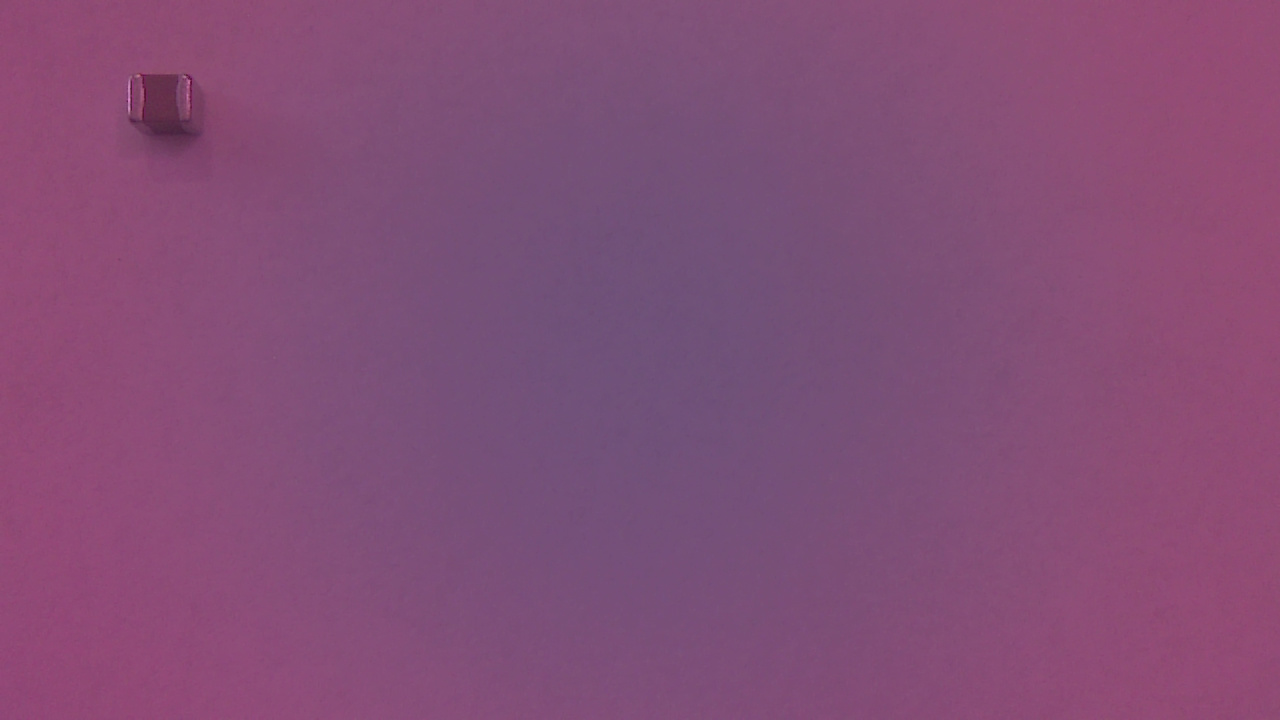Condensator: (124, 70, 215, 146)
